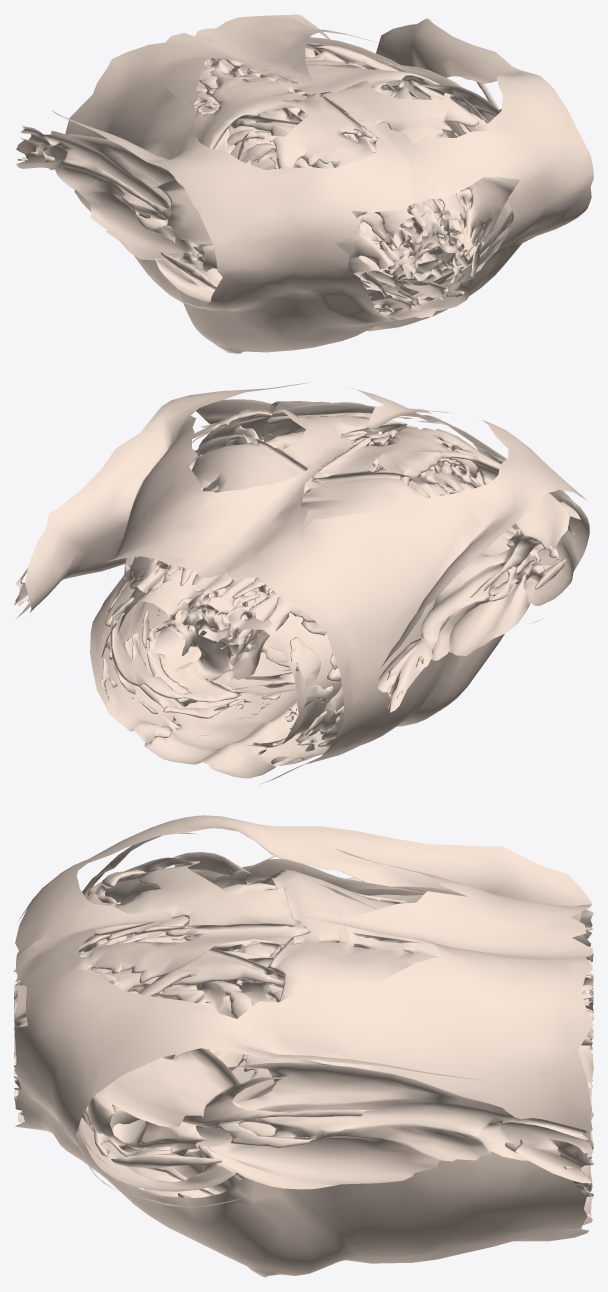
File: thorax__skin.6d436107cb.glb
The picture shows the model from 3 angles, top to bottom: view 1: azimuth 30°, elevation 25°; view 2: azimuth 150°, elevation 25°; view 3: azimuth 270°, elevation 25°; orthographic projection. The views are drawn at different scales.
Parts seen in each view (by area): view 1: FMA7163; view 2: FMA7163; view 3: FMA7163.
Boxes of the visible parts, <box> form: FMA7163: <box>16,14,593,353</box>; FMA7163: <box>14,382,589,784</box>; FMA7163: <box>14,815,593,1277</box>.
Size of the model in its own units: 392 by 242 by 408.
